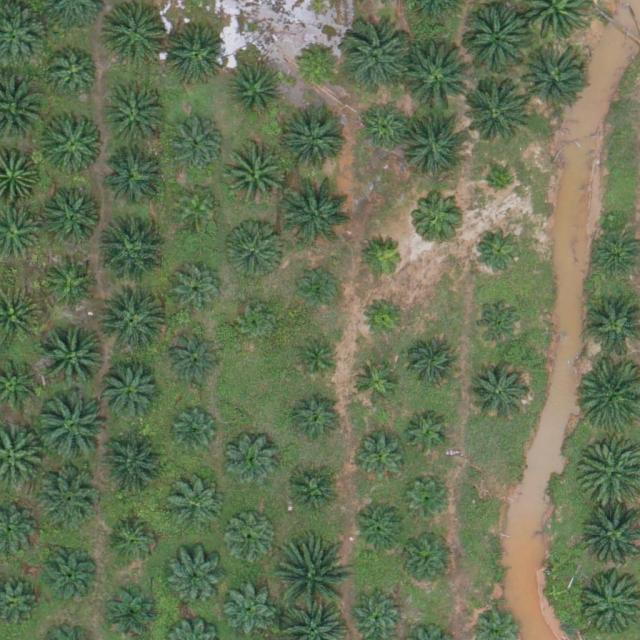Healthy: (94, 434, 165, 505), (37, 395, 108, 465), (41, 323, 111, 394), (95, 216, 165, 287), (96, 287, 166, 358), (519, 42, 589, 113), (460, 5, 531, 75), (401, 42, 471, 113), (404, 110, 474, 181), (279, 544, 349, 614), (284, 179, 354, 249), (459, 78, 529, 148), (343, 23, 413, 93), (35, 468, 98, 531), (42, 188, 105, 251), (105, 88, 168, 151), (104, 145, 167, 208), (162, 24, 225, 87), (224, 145, 287, 208), (468, 363, 530, 426), (100, 364, 162, 427), (42, 111, 104, 174), (225, 219, 287, 282), (285, 107, 347, 170), (104, 2, 166, 64), (474, 296, 529, 352), (290, 394, 345, 449), (283, 466, 338, 521), (354, 429, 409, 484), (398, 533, 453, 588), (168, 556, 223, 611), (43, 547, 98, 602), (106, 513, 161, 568), (224, 514, 279, 569), (169, 479, 224, 534), (358, 102, 413, 157), (46, 251, 101, 306), (49, 48, 104, 103), (167, 334, 222, 389), (171, 261, 226, 316), (228, 65, 283, 120), (472, 223, 527, 278), (411, 188, 466, 243), (408, 337, 463, 392), (353, 501, 407, 556), (103, 584, 157, 639), (225, 433, 279, 488), (223, 584, 277, 639), (170, 115, 224, 170)
Small: (294, 40, 341, 88), (405, 478, 452, 526), (361, 236, 408, 283), (172, 410, 219, 457), (174, 186, 221, 233), (296, 267, 343, 314), (352, 361, 399, 408), (236, 301, 283, 348), (407, 413, 454, 460), (361, 296, 408, 343), (294, 337, 341, 384), (485, 170, 516, 201)
